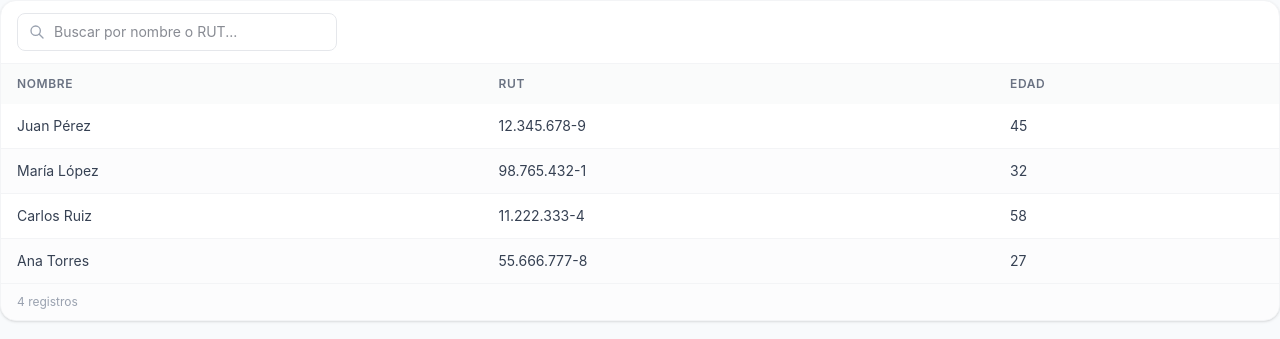
Test: DataTable › shows "Quitar orden" button when sorted
This screenshot has width=1280, height=339.
Click the button "Nombre". click: (45, 84)
box: x1=1 y1=64 x2=483 y2=104
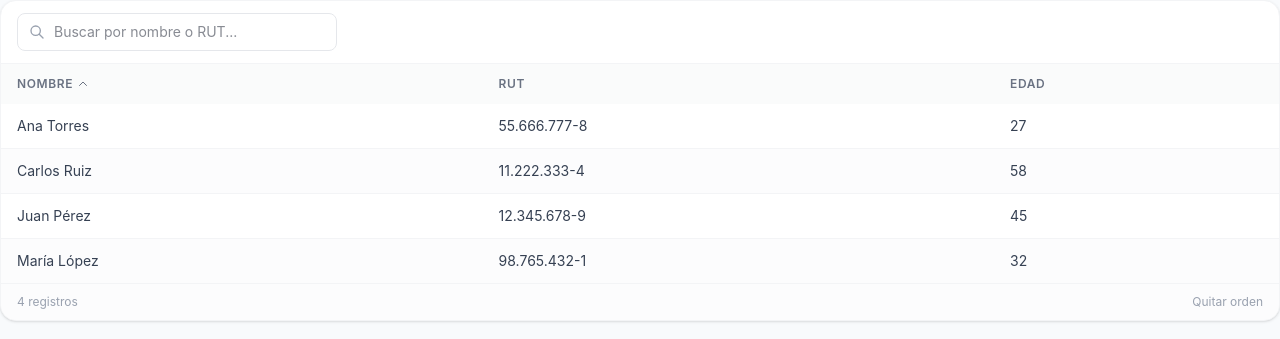
Check: the button "Quitar orden" is shown, box x1=1192 y1=294 x2=1263 y2=310
